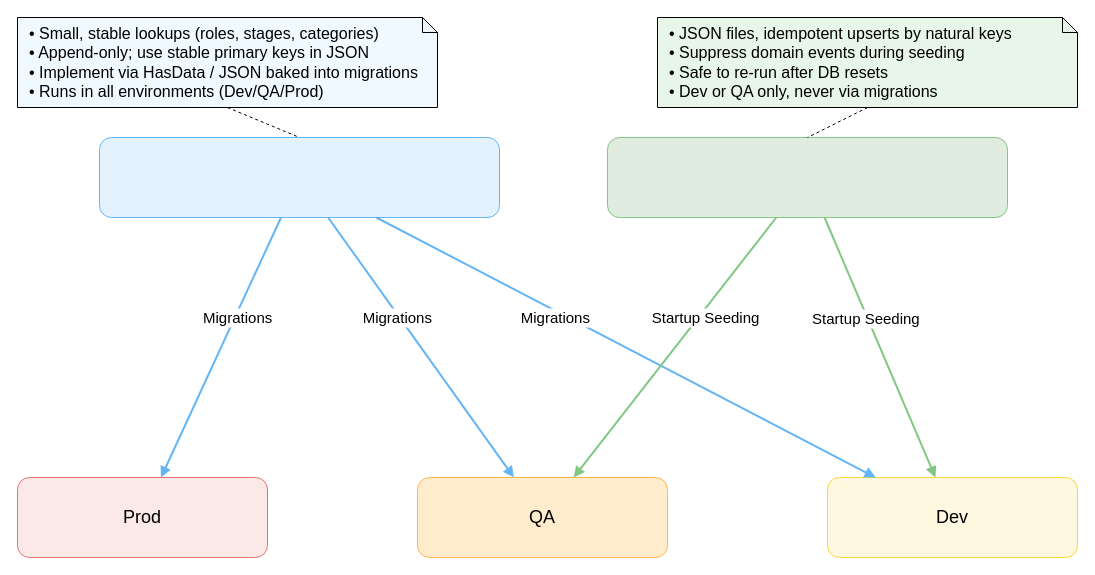
The diagram is 1095 pixels wide and 575 high, and some of its shapes have lost their labels. The shapes that lost their labels are listed below. From the top down, each one's centre as x and y in pixels, then its label:
At [299,177]: "Master Data (Migrations)".
At [807,177]: "Test Data (Startup Seeding)".
